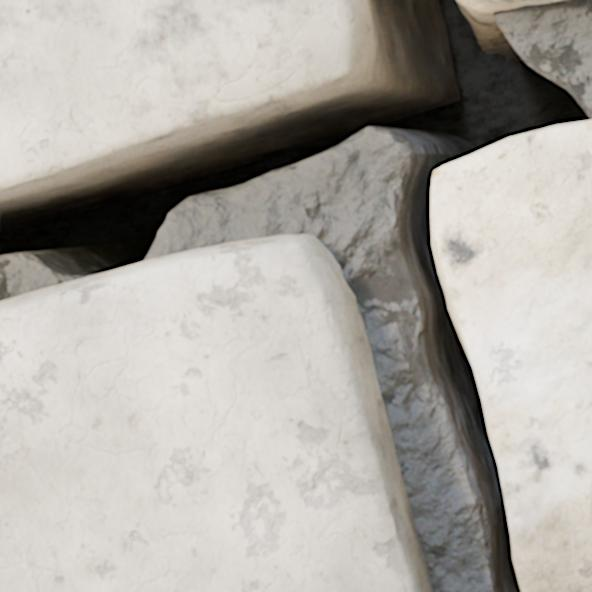brick: (0, 235, 431, 591), (432, 121, 591, 591), (0, 0, 371, 195), (461, 0, 559, 11)
crack: (0, 0, 591, 591)
